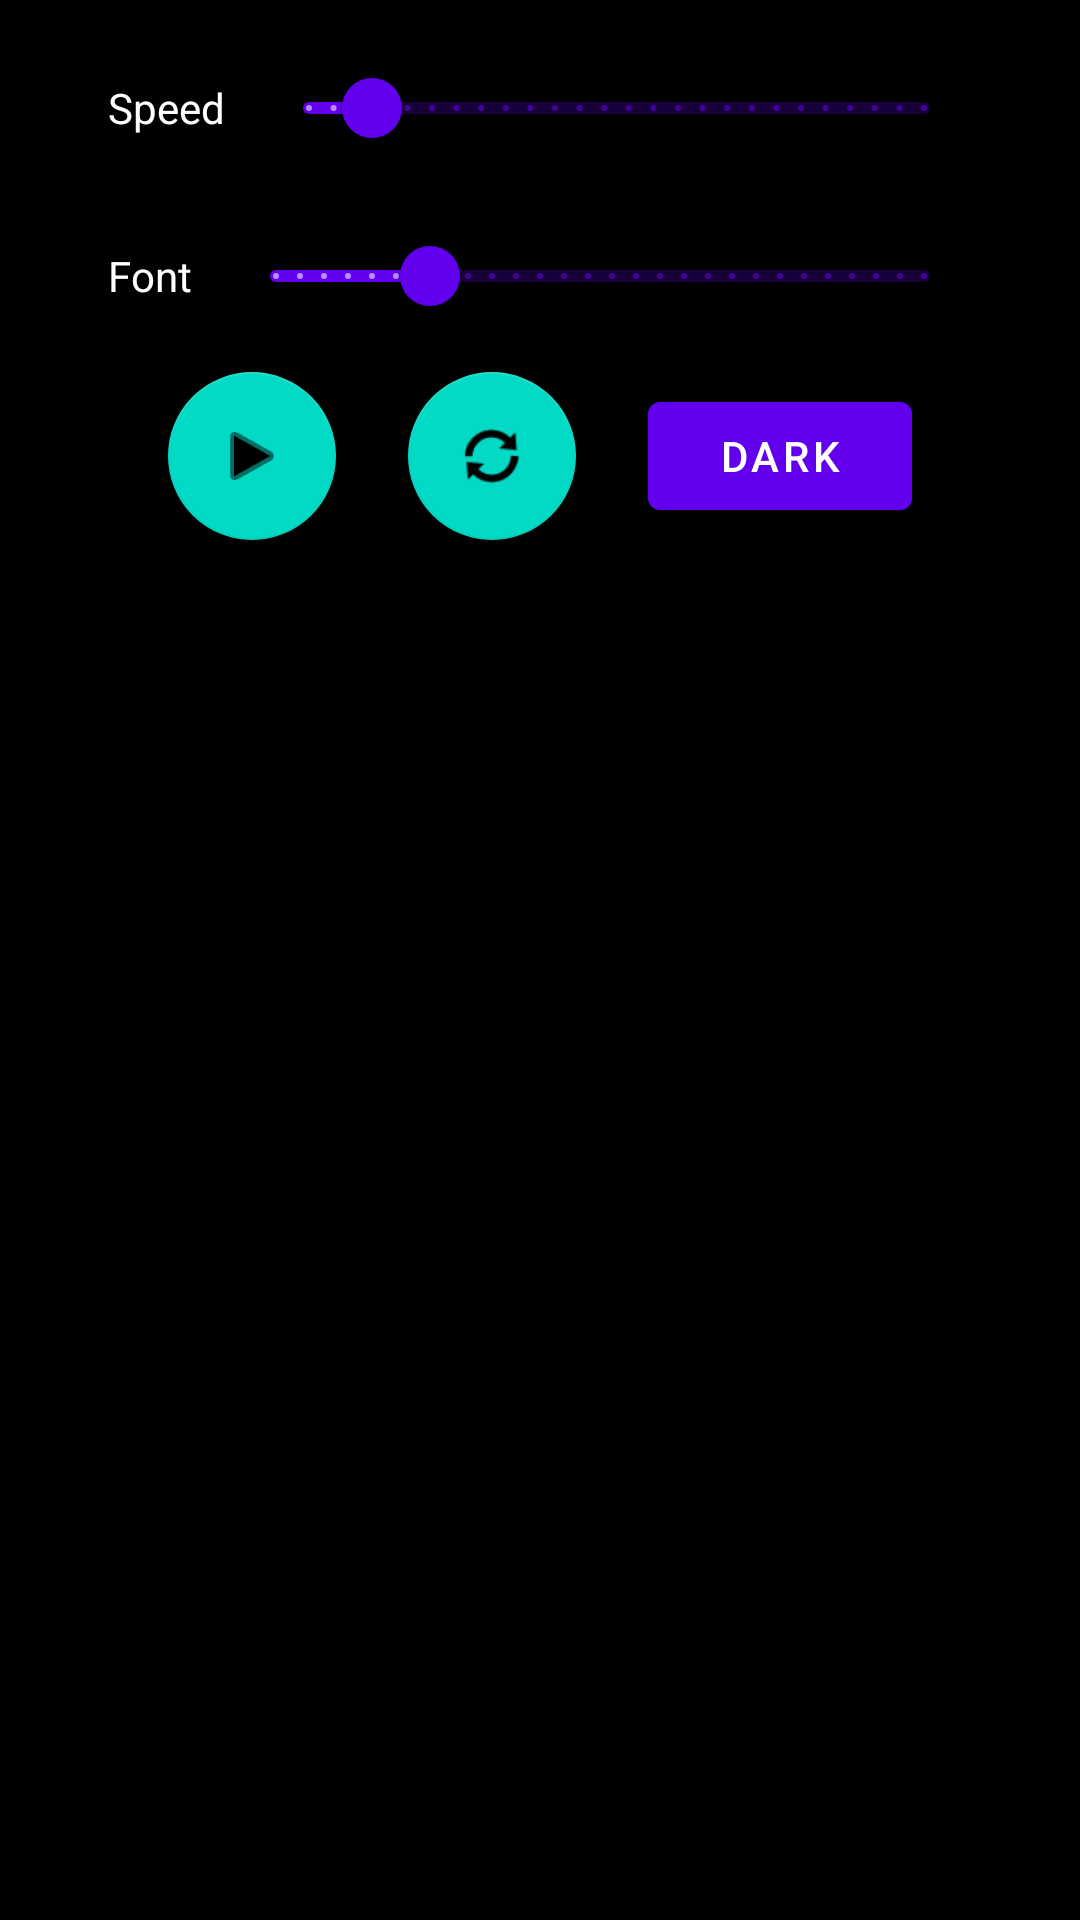

Screen size 1080×1920. Icon name, then its box in pixels as (x1, y1, x2, y2):
Play now: (168, 372, 336, 540)
